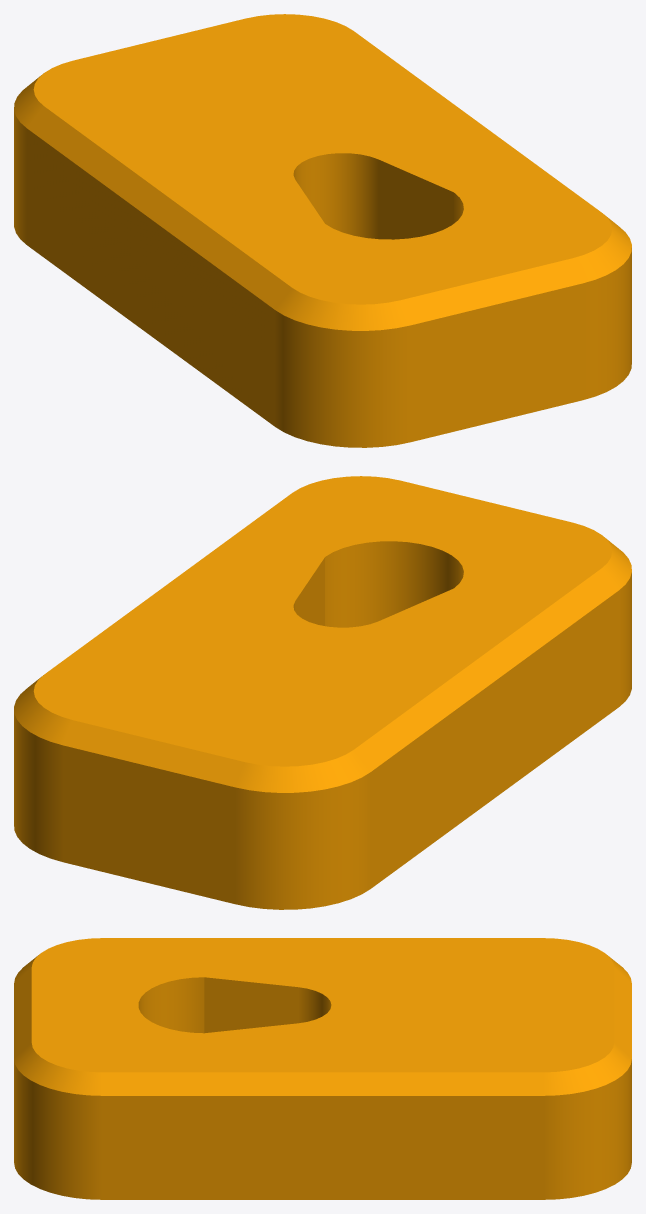
3 renders of one model, top to bottom at view 1: azimuth 30°, elevation 25°; view 2: azimuth 150°, elevation 25°; view 3: azimuth 270°, elevation 25°, orthographic. The views are drawn at different scales.
Visible parts, largest first — view 1: peca; view 2: peca; view 3: peca.
Boxes of the visible parts, x1=… form: peca: x1=14, y1=14, x2=631, y2=447; peca: x1=14, y1=476, x2=631, y2=909; peca: x1=14, y1=938, x2=631, y2=1199.
Bounding box in the file's own units: 4 × 1.5 × 7.
